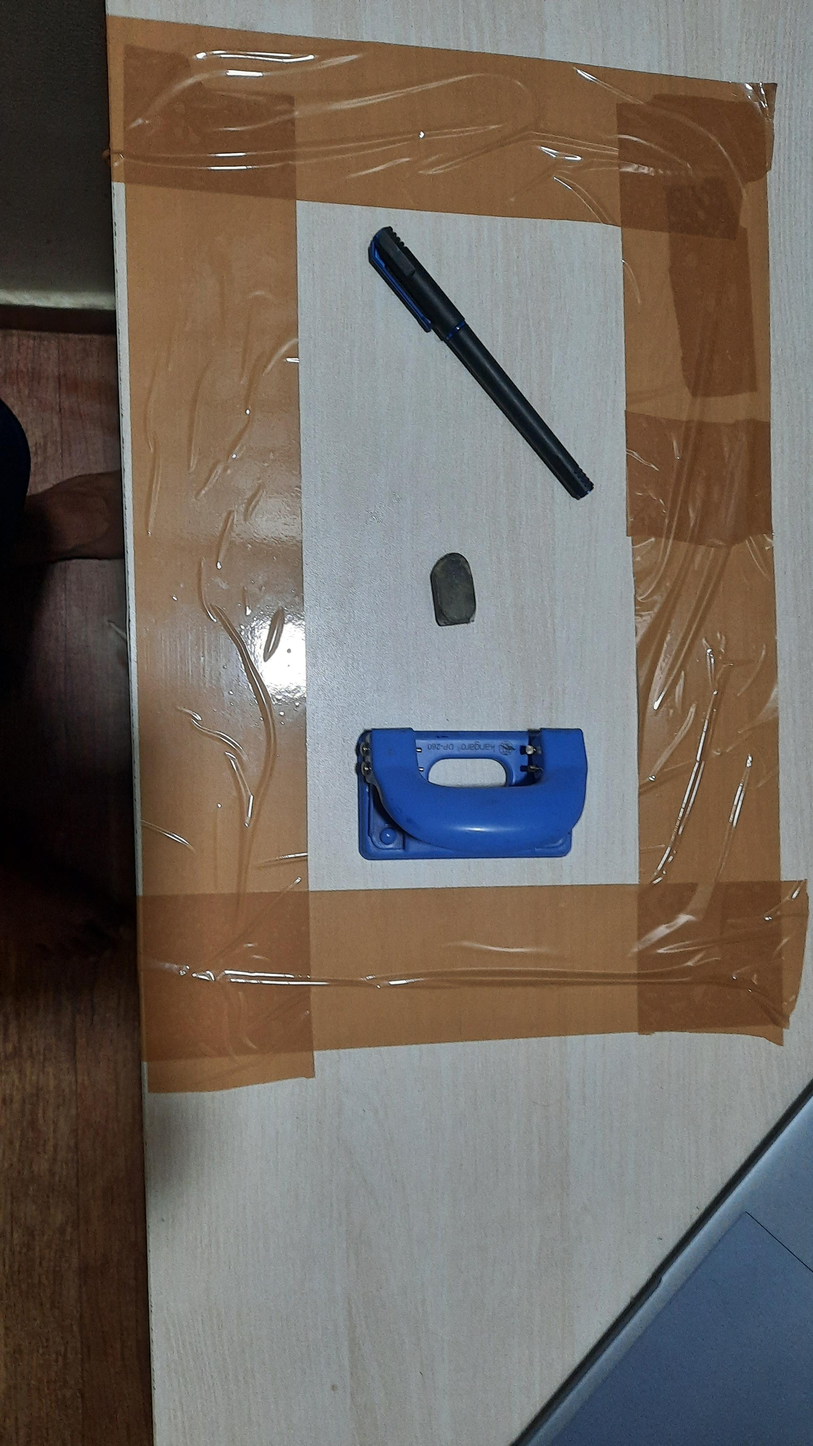Eraser: (429, 551, 477, 627)
Pen: (368, 226, 594, 501)
Punch: (354, 727, 589, 861)
